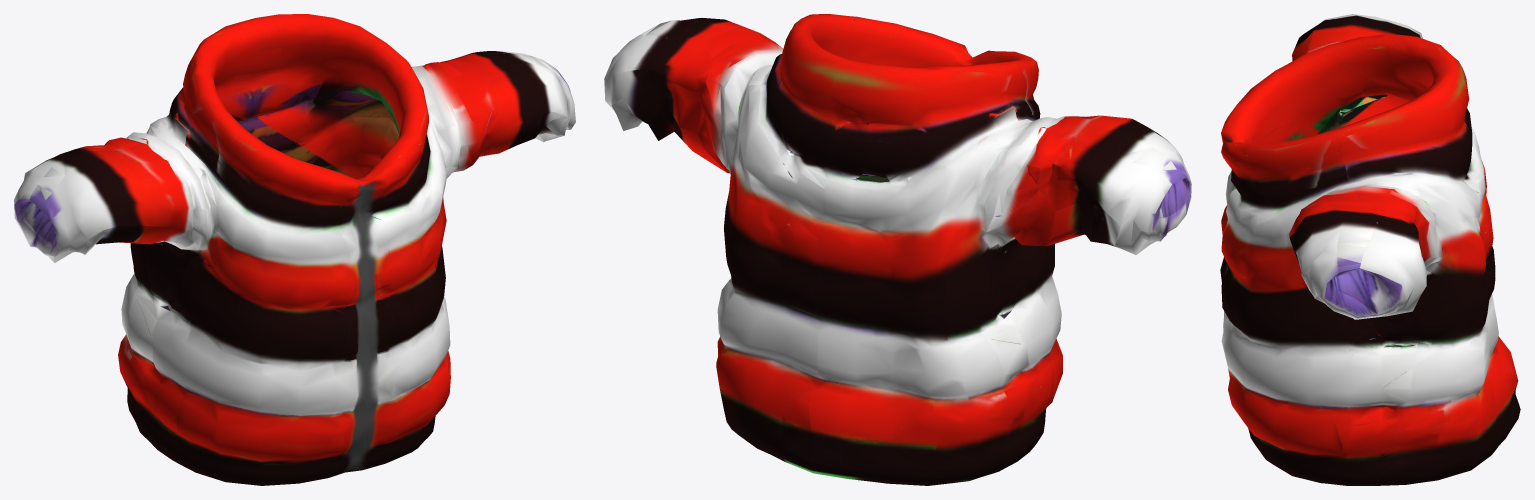
File: Puffy-Jacket-Stripes-v9.glb
3 renders of one model, left to right at view 1: azimuth 30°, elevation 25°; view 2: azimuth 150°, elevation 25°; view 3: azimuth 270°, elevation 25°, orthographic. The views are drawn at different scales.
Parts seen in each view (by area): view 1: Puffy-Jacket-Stripes-v9; view 2: Puffy-Jacket-Stripes-v9; view 3: Puffy-Jacket-Stripes-v9.
Boxes of the visible parts, x1=… form: Puffy-Jacket-Stripes-v9: x1=14, y1=14, x2=575, y2=485; Puffy-Jacket-Stripes-v9: x1=604, y1=14, x2=1191, y2=485; Puffy-Jacket-Stripes-v9: x1=1220, y1=14, x2=1520, y2=485.
Bounding box in the file's own units: 0.719 × 0.4987 × 0.3684.
Materials: 1 (1 with a texture image).
